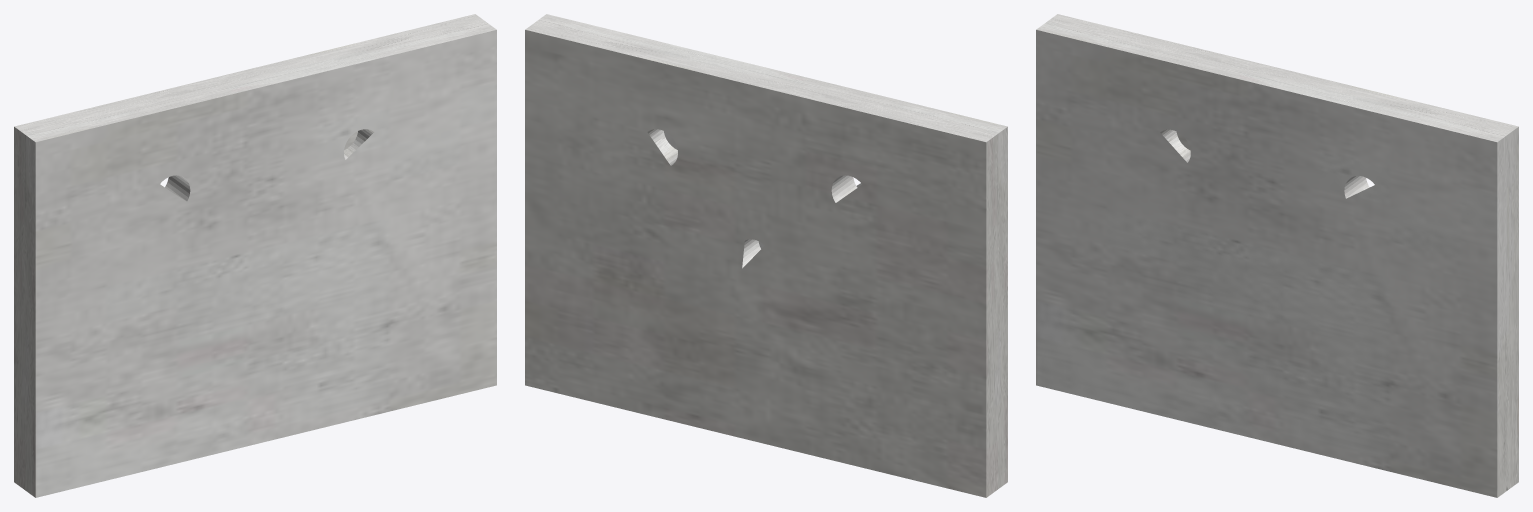
Rendered from дверца шкафа1(111).fbx.
3 views of the same model, side by side, from view 1: azimuth 30°, elevation 25°; view 2: azimuth 150°, elevation 25°; view 3: azimuth 330°, elevation 25° (orthographic).
Visible parts, largest first — view 1: Cube.001; view 2: Cube.001; view 3: Cube.001.
Part boxes in pixels (box(x1,y1,x2,y2)): Cube.001: box(14, 14, 496, 497); Cube.001: box(525, 14, 1007, 497); Cube.001: box(1036, 14, 1518, 497).
Bounding box in the file's own units: 87.5 × 64.47 × 7.07.
Materials: 1 (1 with a texture image).
